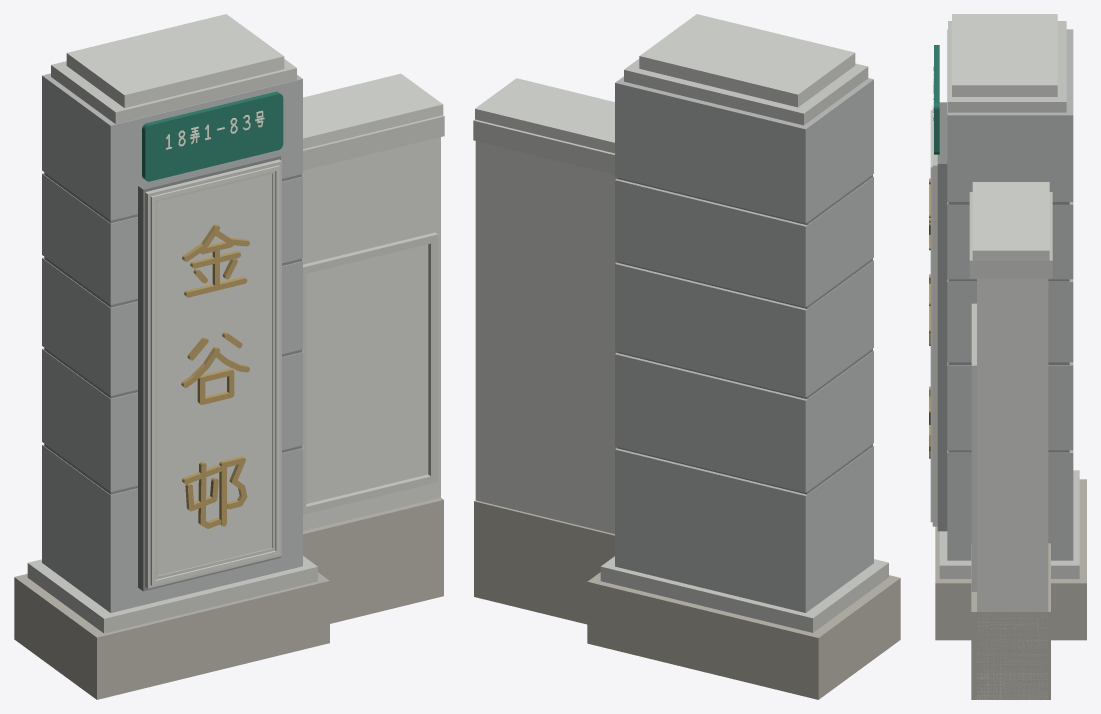
The model's file is huangpu-jingu-village-shaoxing-gatepost-web.glb.
3 renders of one model, left to right at view 1: azimuth 30°, elevation 25°; view 2: azimuth 150°, elevation 25°; view 3: azimuth 270°, elevation 25°, orthographic. The views are drawn at different scales.
Parts seen in each view (by area): view 1: 金谷邨绍兴路18弄南入口题名门柱; view 2: 金谷邨绍兴路18弄南入口题名门柱; view 3: 金谷邨绍兴路18弄南入口题名门柱.
Boxes of the visible parts, x1,y1,x2,y2 form: 金谷邨绍兴路18弄南入口题名门柱: (14,14,444,699); 金谷邨绍兴路18弄南入口题名门柱: (473,14,900,699); 金谷邨绍兴路18弄南入口题名门柱: (929,14,1086,699).
Size of the model in its own units: 1.35 by 2.08 by 0.552.
